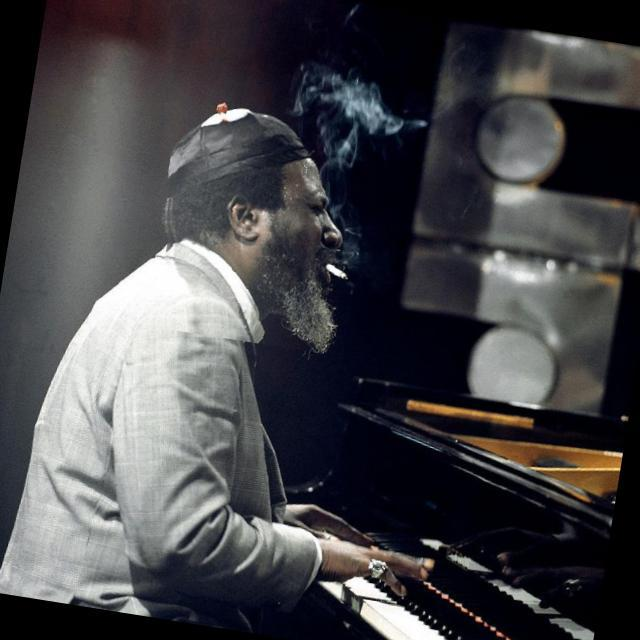cigarette: (310, 246, 369, 290)
